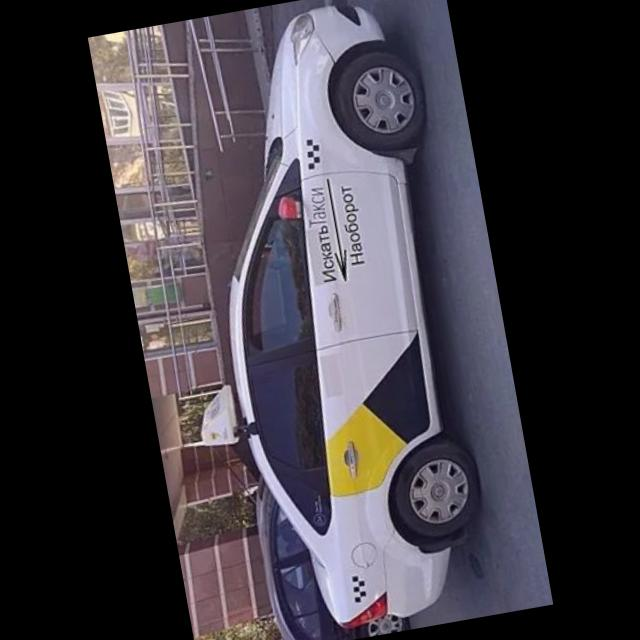taxi: (130, 1, 513, 640)
